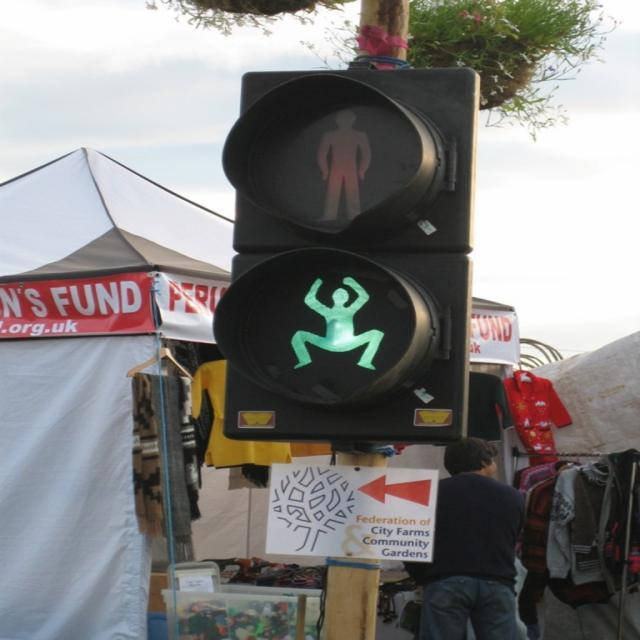traffic light: (219, 56, 466, 424)
